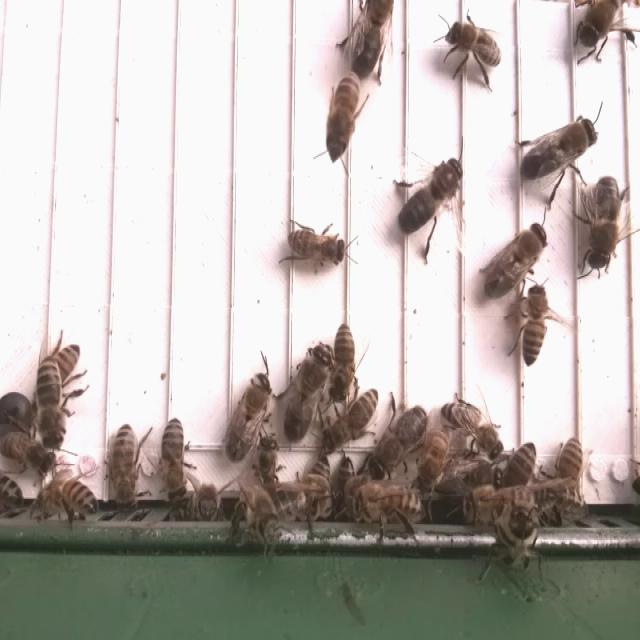Drone: (518, 115, 601, 187), (482, 220, 548, 301), (399, 156, 464, 237), (365, 403, 430, 483), (283, 342, 332, 445), (222, 370, 272, 465), (583, 172, 622, 272)
Worker: (440, 398, 502, 458), (323, 387, 382, 448), (33, 355, 67, 452), (443, 23, 505, 70), (327, 74, 361, 154), (352, 486, 425, 522), (0, 431, 58, 476), (518, 281, 548, 367), (287, 225, 348, 267), (109, 418, 139, 502), (160, 415, 190, 497), (549, 435, 586, 499), (32, 477, 95, 514), (499, 438, 538, 497), (329, 319, 358, 398)
